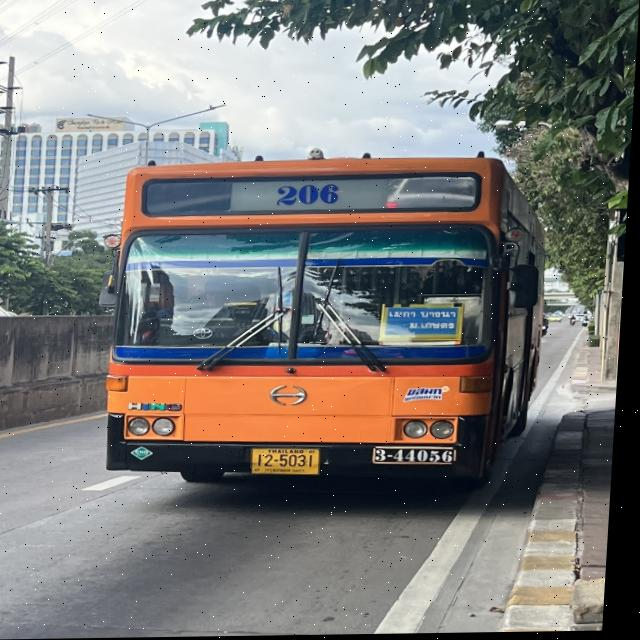BMTA-bus: (107, 152, 560, 498)
Bus Line Number: (265, 181, 353, 211)
Bus Side Number: (377, 443, 468, 468)
Destination Sign: (392, 309, 462, 337)
